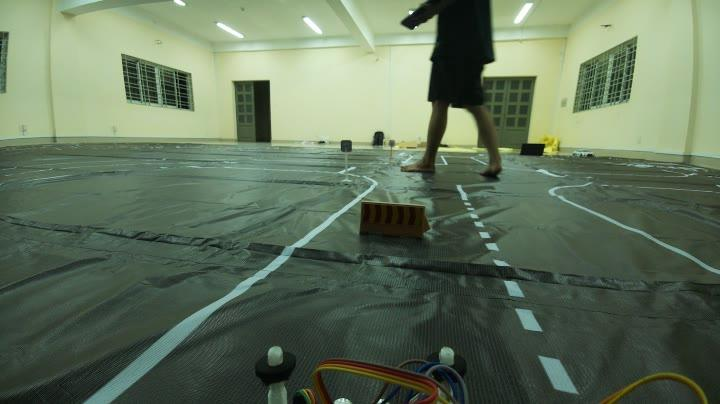roadblock: (354, 192, 441, 252)
